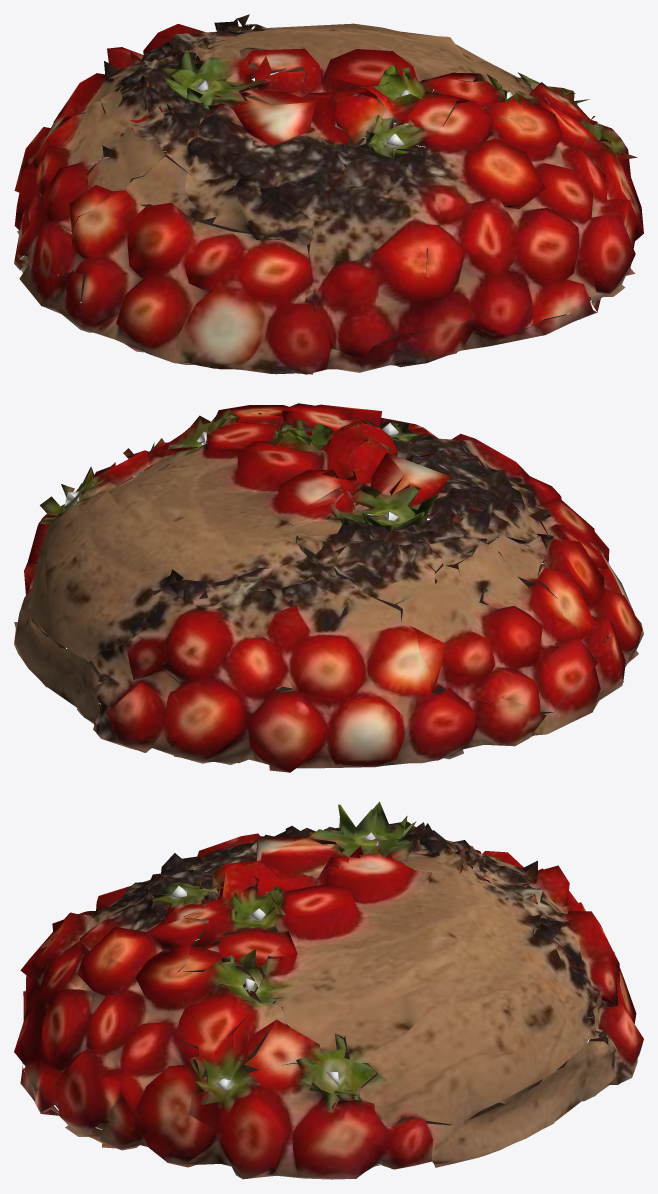
File: strawberry_chocolate_cake.glb
3 views of the same model, one above another, from view 1: azimuth 30°, elevation 25°; view 2: azimuth 150°, elevation 25°; view 3: azimuth 270°, elevation 25° (orthographic).
Visible parts, largest first — view 1: strawberry_chocolate_cake; view 2: strawberry_chocolate_cake; view 3: strawberry_chocolate_cake.
Part boxes in pixels (<box>): strawberry_chocolate_cake: <box>14,14,643,374</box>; strawberry_chocolate_cake: <box>14,403,643,772</box>; strawberry_chocolate_cake: <box>14,801,643,1179</box>.
Size of the model in its own units: 0.2427 by 0.0797 by 0.2403.
1 material, 1 textured.
